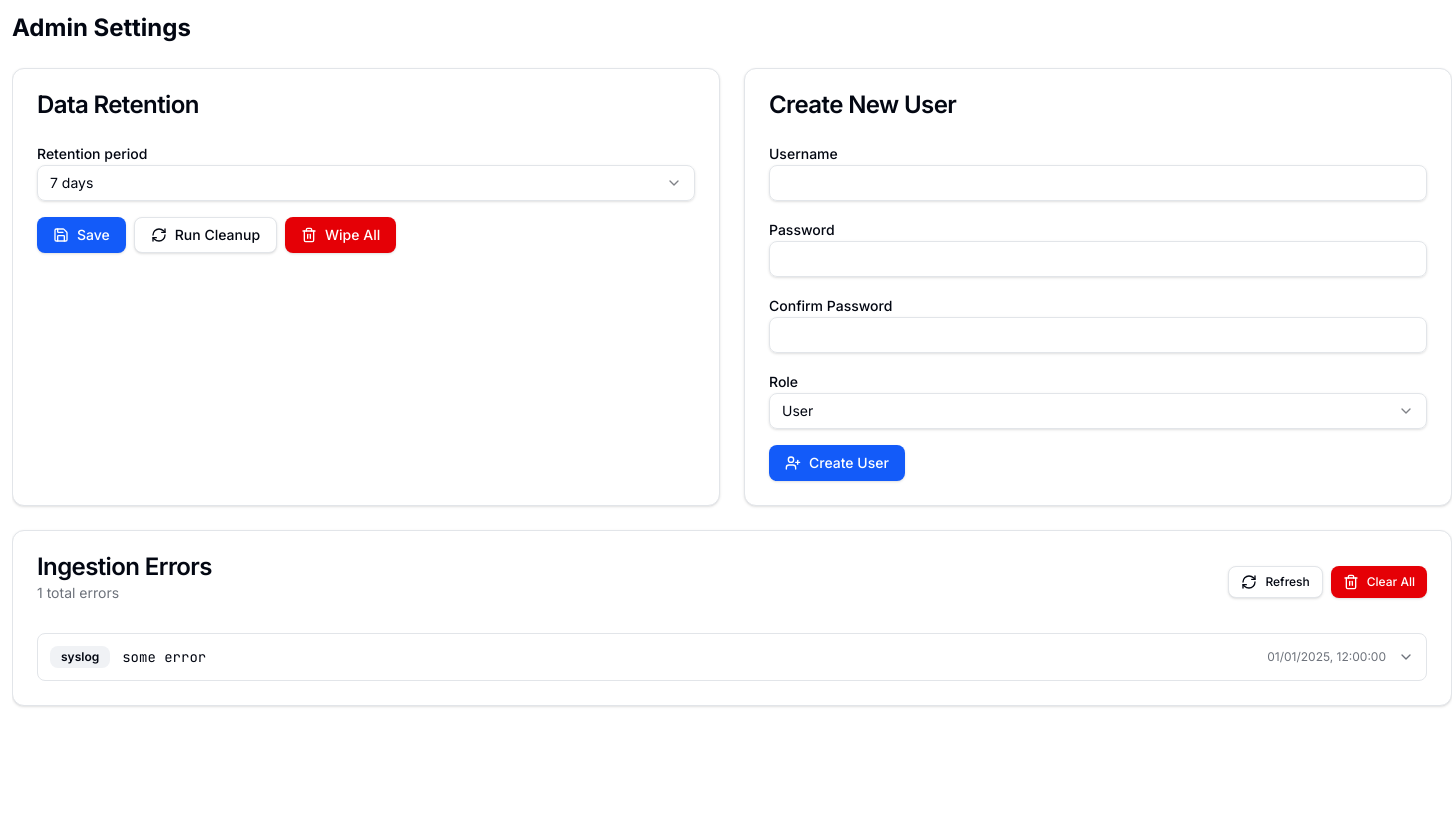
Test: AdminSettings - extended coverage › renders error detail without raw input section when raw_input is missing
Click the text "some error" at (164,657), box [122, 648, 206, 666]
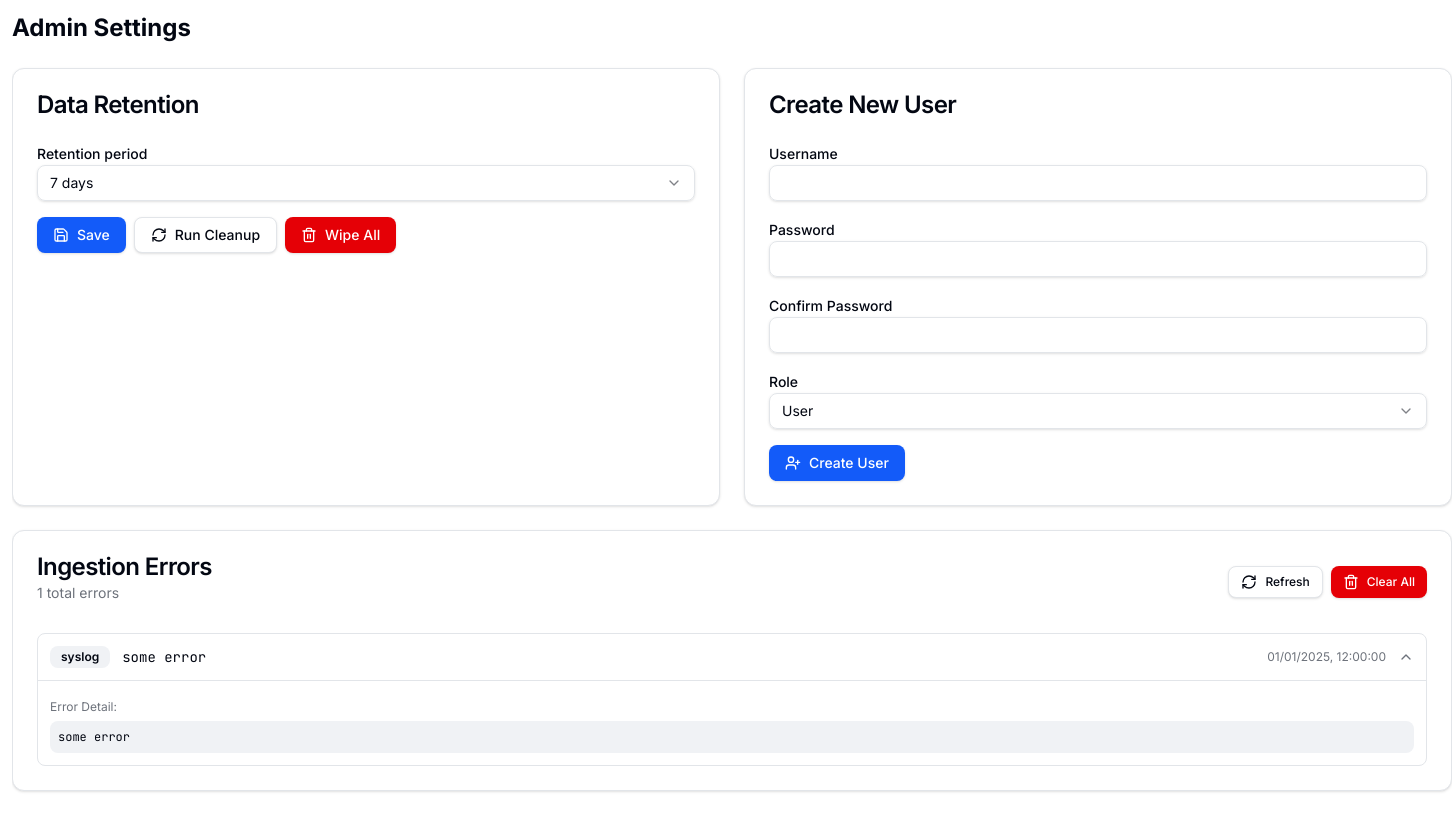
Result: the text "Error Detail:" is shown at [50, 699, 117, 714]
